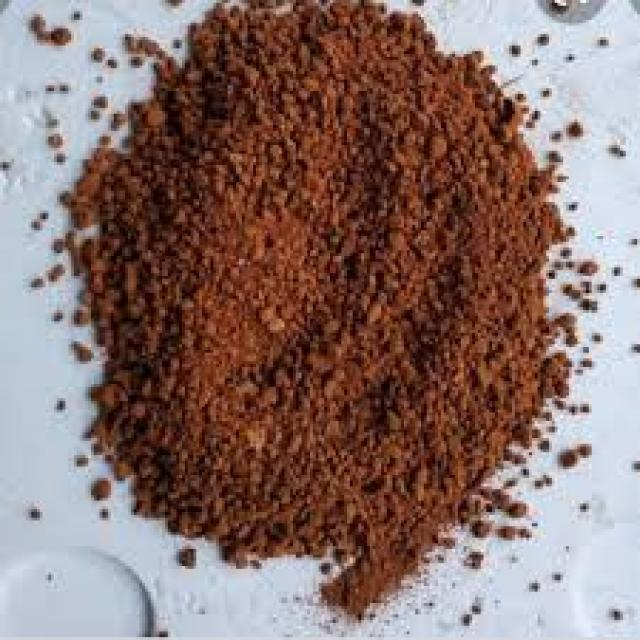Pecahan Agregat: (88, 26, 622, 602)
